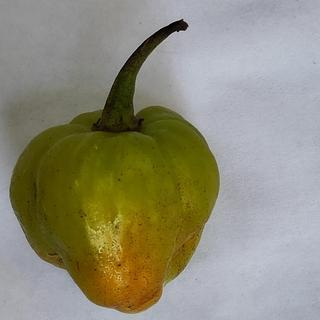Grade-B: (4, 97, 223, 316)
